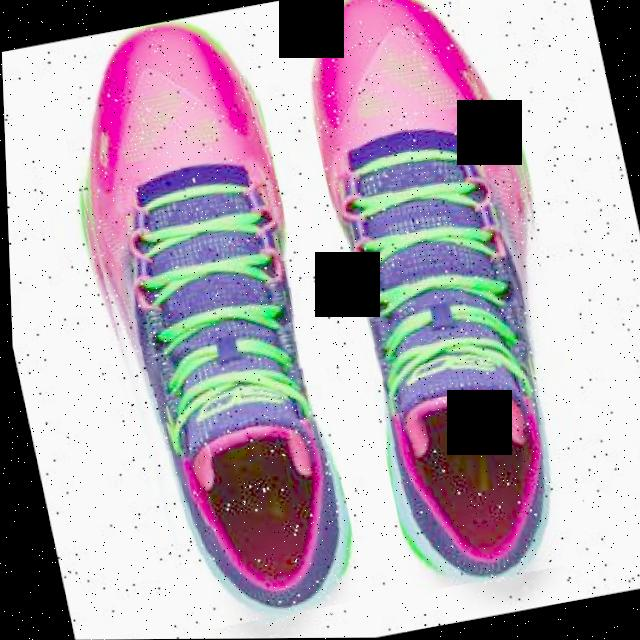shoe: (44, 8, 363, 638), (287, 0, 608, 593)
